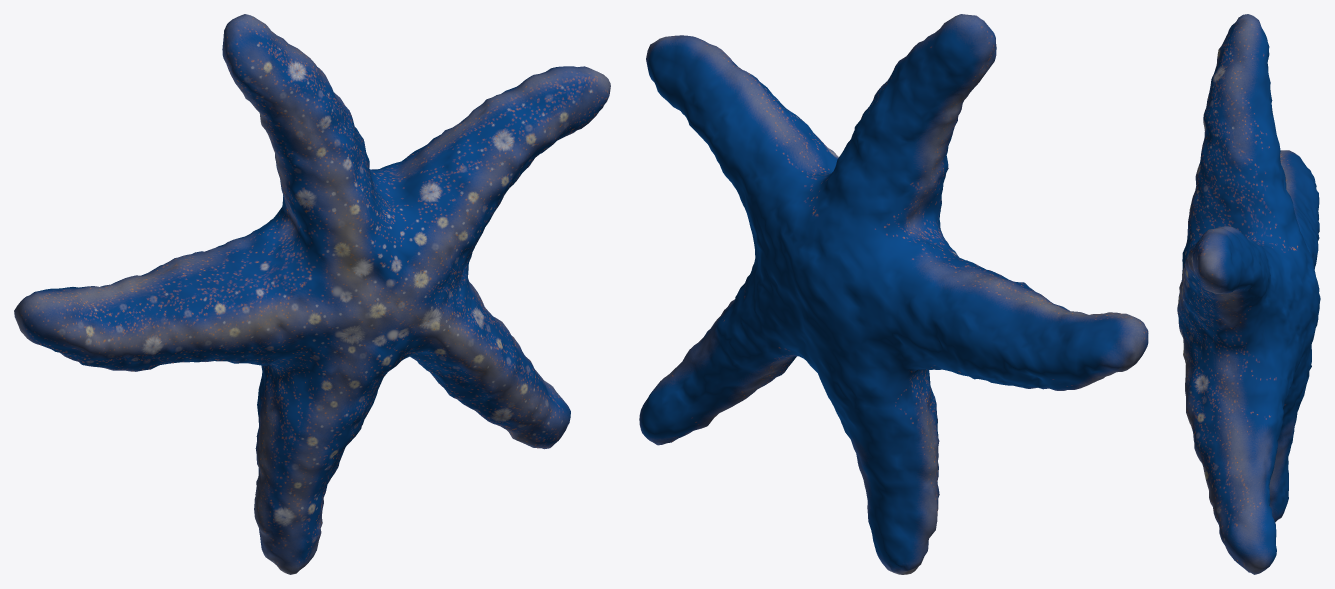
File: starfishBlue_edit_for_FBX.fbx
3 views of the same model, side by side, from view 1: azimuth 30°, elevation 25°; view 2: azimuth 150°, elevation 25°; view 3: azimuth 270°, elevation 25° (orthographic). The views are drawn at different scales.
Visible parts, largest first — view 1: starfishBlue; view 2: starfishBlue; view 3: starfishBlue.
Boxes of the visible parts, x1=… form: starfishBlue: x1=14, y1=14, x2=610, y2=574; starfishBlue: x1=639, y1=14, x2=1148, y2=574; starfishBlue: x1=1177, y1=14, x2=1320, y2=574.
Size of the model in its own units: 293 by 296 by 78.77.
